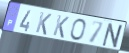4: (19, 10, 32, 33)
7: (88, 20, 104, 45)
K: (34, 11, 53, 36), (52, 14, 70, 39)
N: (100, 23, 125, 50)
O: (69, 18, 87, 42)
